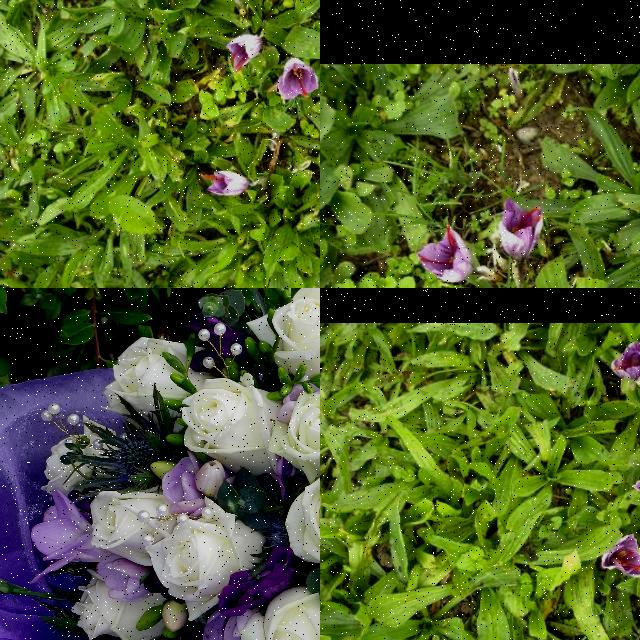flower: (415, 225, 473, 285), (498, 199, 544, 261), (278, 56, 320, 100), (601, 534, 640, 578), (227, 34, 261, 72), (200, 172, 250, 196), (611, 340, 640, 381)
